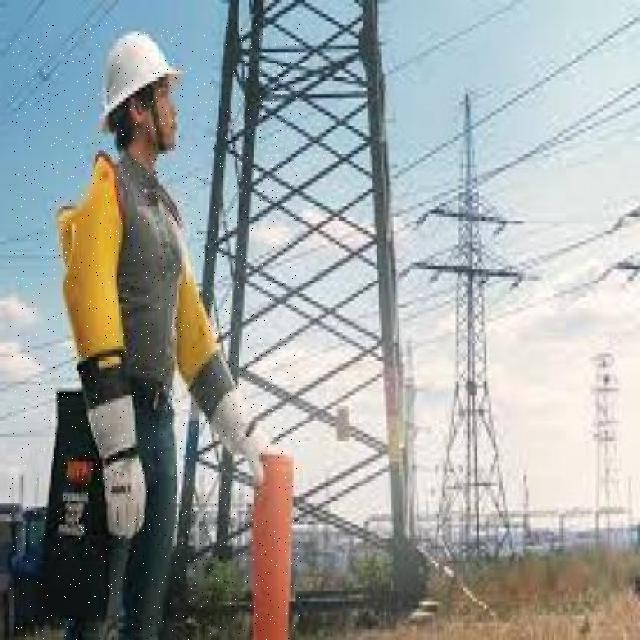helmet: (94, 31, 178, 140)
